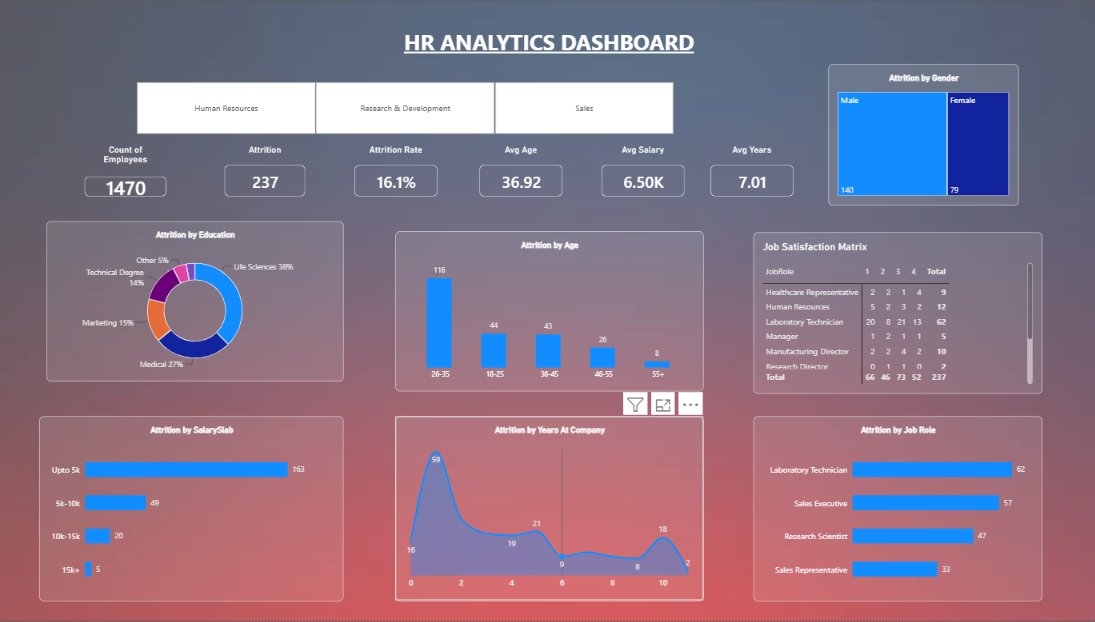

Layout of this report page (visuals, bound fields, positions):
{"tool":"powerbi","page":{"name":"Page 1","canvas":[1920,1080],"ordinal":0},"visuals":[{"type":"cardVisual","title":"Count of Employees","fields":{"Data":["CountNonNull(HR_Analytics.EmpID)"]},"box":[150.5,248.4,143.3,91.7],"z":0},{"type":"cardVisual","title":"Attrition","fields":{"Data":["Sum(HR_Analytics.AttritionCount)"]},"box":[394.1,248.4,141.7,91.7],"z":1000},{"type":"cardVisual","title":"Attrition Rate","fields":{"Data":["HR_Analytics.AttritionRate"]},"box":[621.1,248.4,145,91.7],"z":2000},{"type":"cardVisual","title":"Avg Age","fields":{"Data":["Avg(HR_Analytics.Age)"]},"box":[838.4,248.4,145,91.7],"z":3000},{"type":"cardVisual","title":"Avg Salary","fields":{"Data":["Avg(HR_Analytics.MonthlyIncome)"]},"box":[1051,248.4,145,91.7],"z":4000},{"type":"cardVisual","title":"Avg Years","fields":{"Data":["Avg(HR_Analytics.YearsAtCompany)"]},"box":[1242.1,248.4,145,91.7],"z":5000},{"type":"donutChart","title":"Attrition by Education","fields":{"Category":["HR_Analytics.EducationField"],"Y":["Sum(HR_Analytics.AttritionCount)"]},"box":[83.6,382.2,518.3,279.5],"z":6000},{"type":"columnChart","title":"Attrition by Age","fields":{"Category":["HR_Analytics.AgeGroup"],"Y":["Sum(HR_Analytics.AttritionCount)"]},"box":[692.7,398.9,537.4,279.5],"z":7000},{"type":"pivotTable","title":"Job Satisfaction Matrix","fields":{"Columns":["HR_Analytics.JobSatisfaction"],"Rows":["HR_Analytics.JobRole"],"Values":["Sum(HR_Analytics.AttritionCount)"]},"box":[1316.2,401.3,504,281.9],"z":8000},{"type":"barChart","title":"Attrition by SalarySlab","fields":{"Category":["HR_Analytics.SalarySlab"],"Y":["Sum(HR_Analytics.AttritionCount)"]},"box":[71.7,721.4,530.3,322.5],"z":9000},{"type":"barChart","title":"Attrition by Job Role","fields":{"Category":["HR_Analytics.JobRole"],"Y":["Sum(HR_Analytics.AttritionCount)"]},"box":[1316.2,721.4,504,322.5],"z":10000},{"type":"areaChart","title":"Attrition by Years At Company","fields":{"Category":["HR_Analytics.YearsAtCompany"],"Y":["Sum(HR_Analytics.AttritionCount)"]},"box":[692.7,721.4,537.4,322.5],"z":11000},{"type":"treemap","title":"Attrition by Gender","fields":{"Group":["HR_Analytics.Gender"],"Values":["Sum(HR_Analytics.AttritionCount)"]},"box":[1447.5,107.5,332,246],"z":12000},{"type":"slicer","fields":{"Values":["HR_Analytics.Department"]},"box":[222.1,138.5,974.6,93.2],"z":13000},{"type":"textbox","box":[0,43,1920.5,64.5],"z":14000}]}

Visuals, with their boxes in screenshot pixels (x1, y1, x2, y2), scaled from the page's 1920x1080 canvas onto the 1095x622 screenshot:
"Count of Employees" cardVisual: 86/143/168/196
"Attrition" cardVisual: 225/143/306/196
"Attrition Rate" cardVisual: 354/143/437/196
"Avg Age" cardVisual: 478/143/561/196
"Avg Salary" cardVisual: 599/143/682/196
"Avg Years" cardVisual: 708/143/791/196
"Attrition by Education" donutChart: 48/220/343/381
"Attrition by Age" columnChart: 395/230/702/391
"Job Satisfaction Matrix" pivotTable: 751/231/1038/393
"Attrition by SalarySlab" barChart: 41/415/343/601
"Attrition by Job Role" barChart: 751/415/1038/601
"Attrition by Years At Company" areaChart: 395/415/702/601
"Attrition by Gender" treemap: 826/62/1015/204
slicer - HR_Analytics.Department: 127/80/682/133
textbox: 0/25/1094/62
